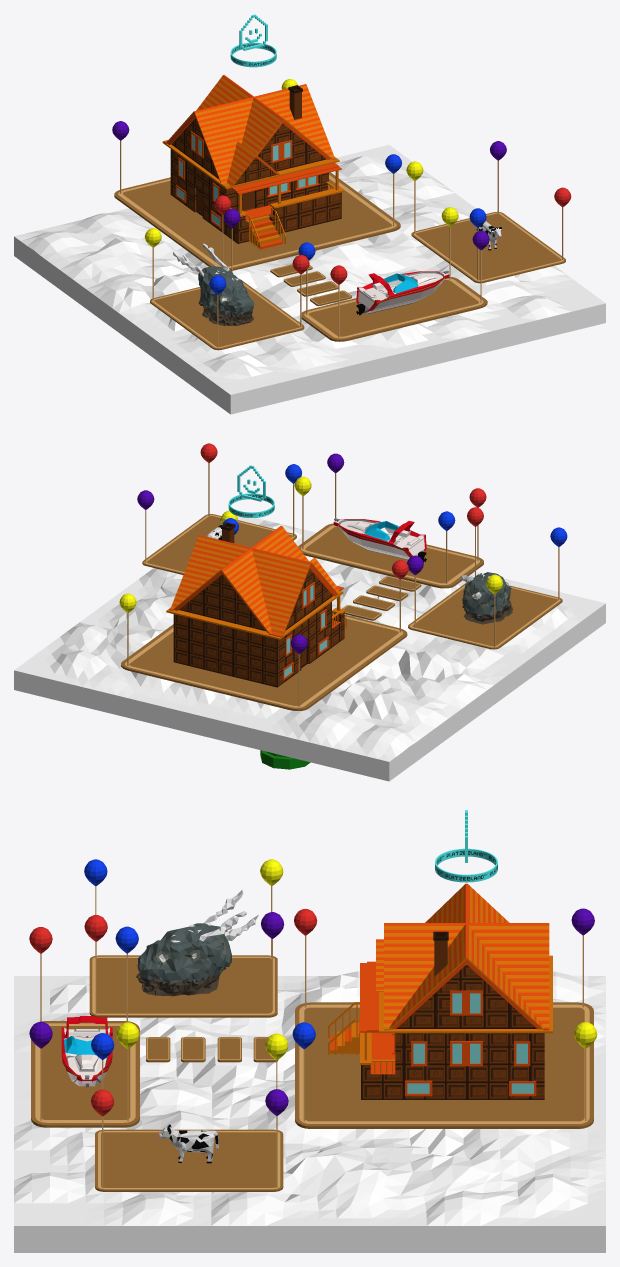
3 views of the same model, one above another, from view 1: azimuth 30°, elevation 25°; view 2: azimuth 150°, elevation 25°; view 3: azimuth 270°, elevation 25° (orthographic). The views are drawn at different scales.
Visible parts, largest first — view 1: Cube.013, Cube, OBJRANDOM_METEORITE, VEHICLES_BOAT, TYPE_PREMIUM; view 2: Cube.013, Cube, VEHICLES_BOAT, OBJRANDOM_METEORITE, TYPE_PREMIUM, UNDERGROUND_PIPES; view 3: Cube.013, Cube, OBJRANDOM_METEORITE, VEHICLES_BOAT, ANIMAL_VACA, TYPE_PREMIUM.
Part boxes in pixels (x1,y1,x2,y2): Cube.013: (14,79,605,414); Cube: (162,75,344,250); OBJRANDOM_METEORITE: (173,243,254,326); VEHICLES_BOAT: (356,270,449,315); TYPE_PREMIUM: (230,14,276,67); Cube.013: (14,443,605,781); Cube: (166,522,346,687); VEHICLES_BOAT: (333,518,426,562); OBJRANDOM_METEORITE: (460,572,512,624); TYPE_PREMIUM: (228,465,274,517); UNDERGROUND_PIPES: (260,750,310,769); Cube.013: (14,859,605,1252); Cube: (328,883,552,1099); OBJRANDOM_METEORITE: (136,890,258,996); VEHICLES_BOAT: (61,1016,112,1087); ANIMAL_VACA: (158,1124,218,1163); TYPE_PREMIUM: (435,810,497,882).
Bounding box in the file's own units: 4000 × 3027 × 4000.
30 materials, 3 textured.
